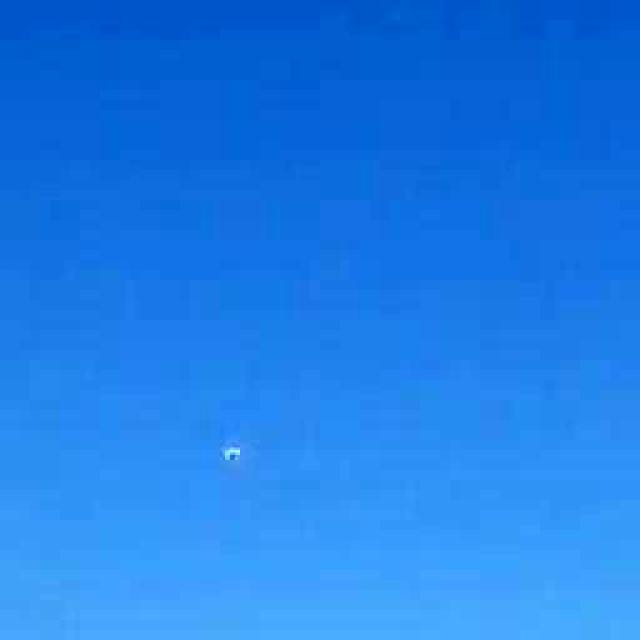bird: (192, 408, 272, 498)
